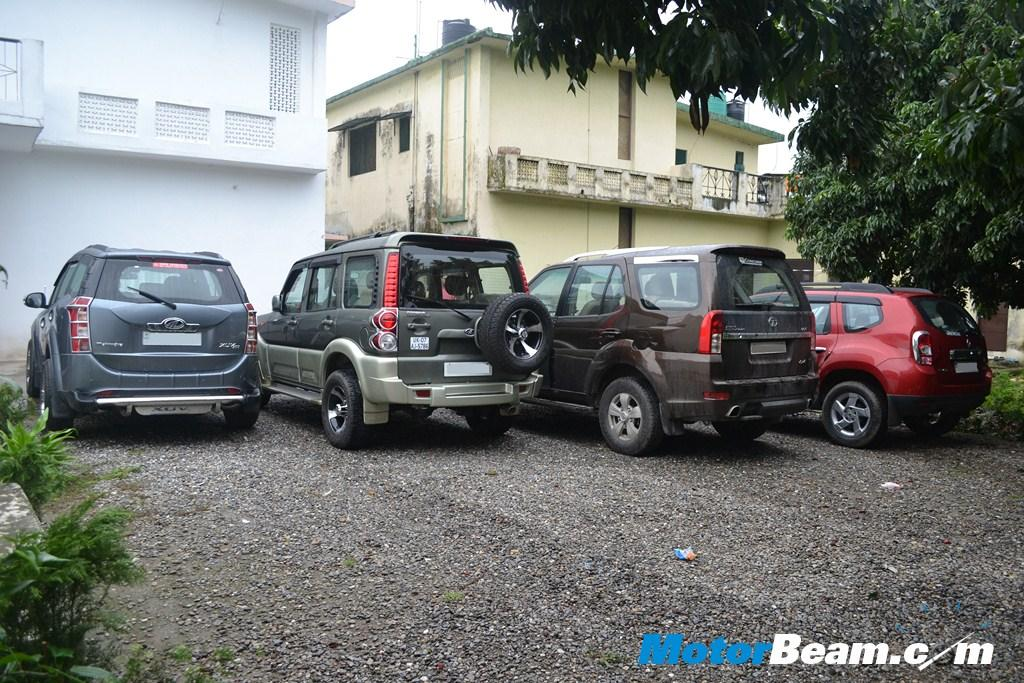car: (273, 198, 554, 479), (6, 230, 268, 479), (563, 244, 823, 457), (813, 275, 1002, 463)
